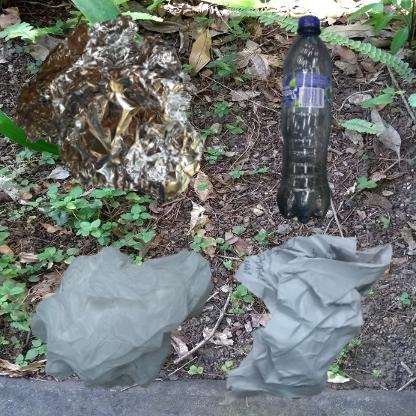aluminio: (10, 10, 209, 204)
bolsa: (10, 213, 272, 416)
botella: (213, 10, 416, 293)
papel: (213, 213, 402, 416)
